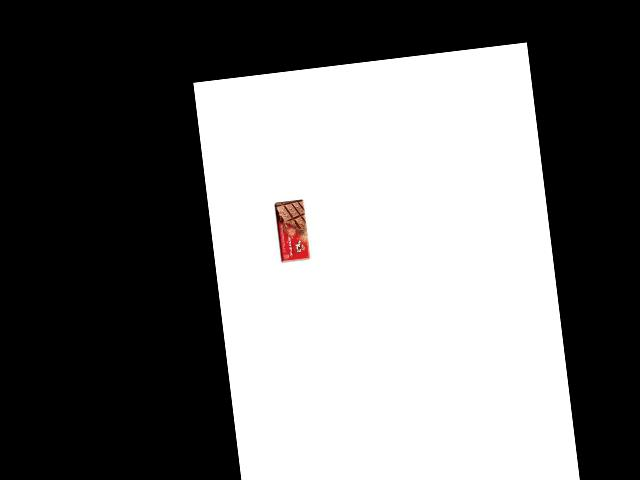chocolate: (273, 197, 311, 263)
